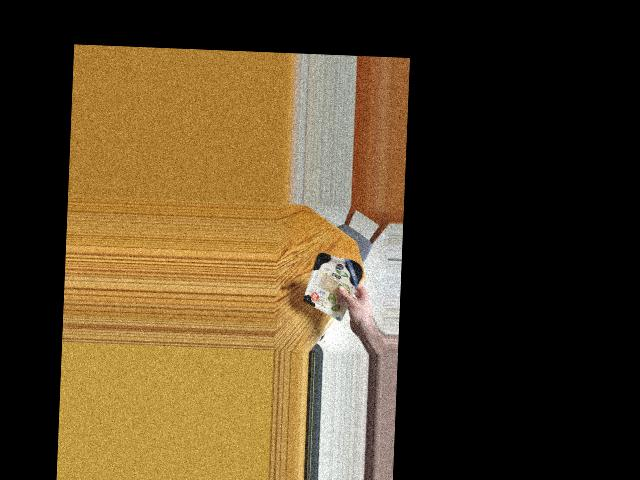cheese: (304, 250, 365, 311)
